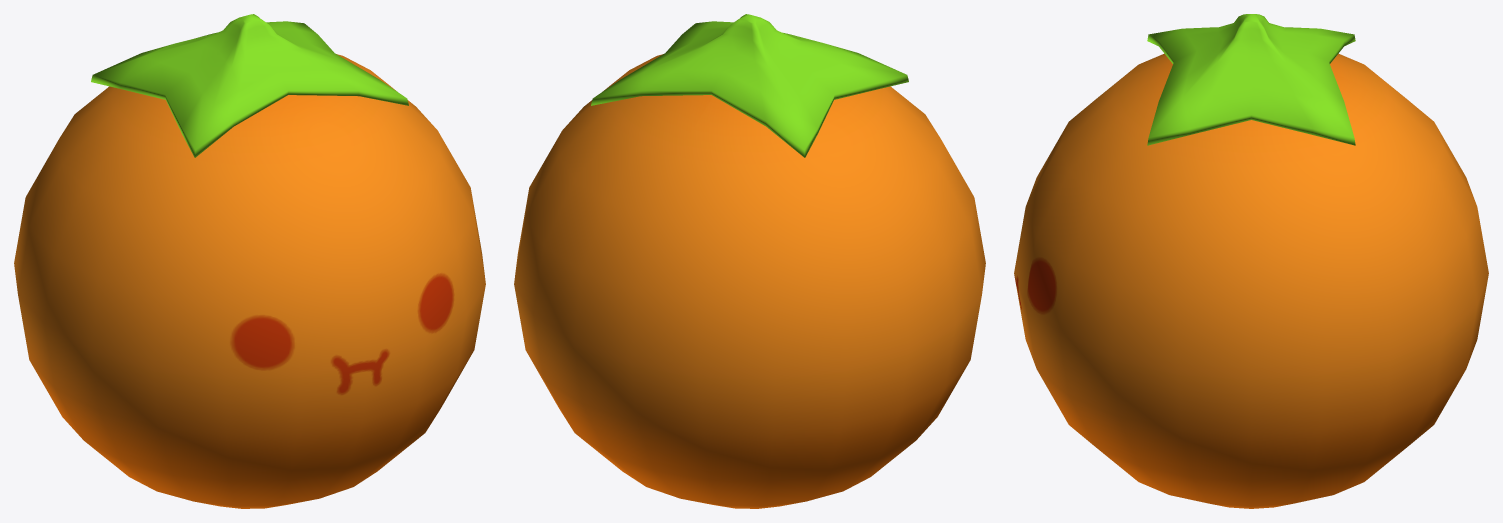
Rendered from Orange.fbx.
The picture shows the model from 3 angles, left to right: view 1: azimuth 30°, elevation 25°; view 2: azimuth 150°, elevation 25°; view 3: azimuth 270°, elevation 25°; orthographic projection.
Visible parts, largest first — view 1: Orange; view 2: Orange; view 3: Orange.
Part boxes in pixels (<box>): Orange: <box>14,14,485,508</box>; Orange: <box>514,14,985,508</box>; Orange: <box>1014,14,1488,508</box>.
Size of the model in its own units: 7.33 by 8.08 by 7.33.
